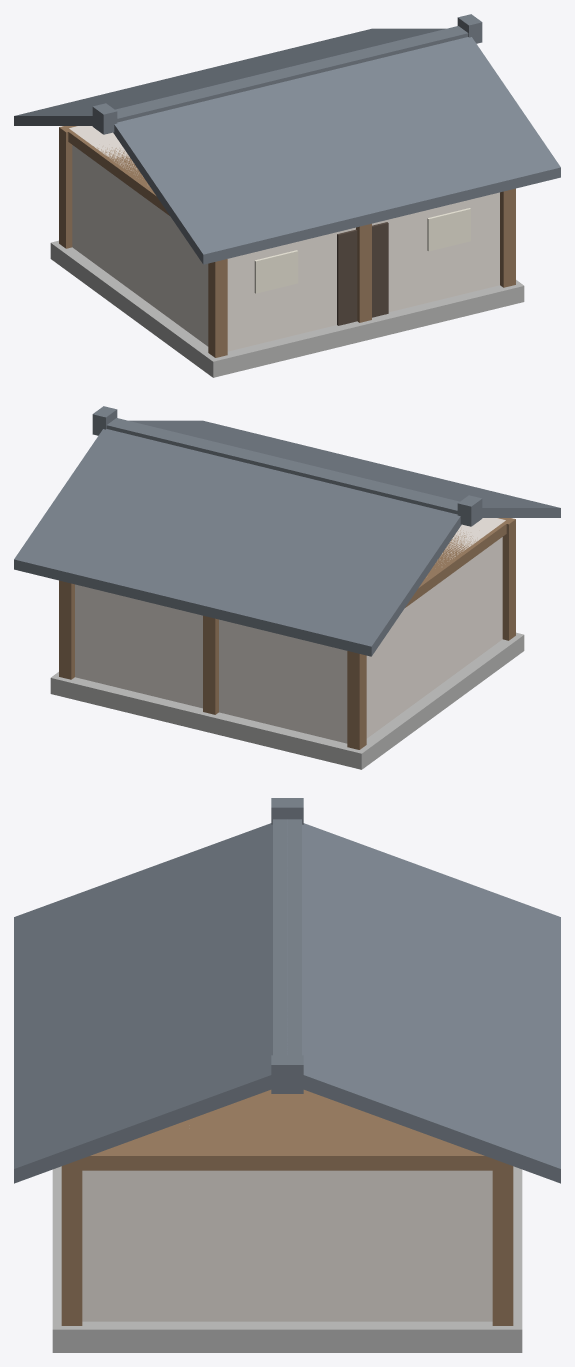
Rendered from house_s3_03.glb.
The picture shows the model from 3 angles, top to bottom: view 1: azimuth 30°, elevation 25°; view 2: azimuth 150°, elevation 25°; view 3: azimuth 270°, elevation 25°; orthographic projection. The views are drawn at different scales.
Parts seen in each view (by area): view 1: part01, part04, part03, part02, part00, part05; view 2: part01, part04, part03, part02; view 3: part01, part04, part02, part03.
Boxes of the visible parts, <box> form: part01: <box>14,14,560,264</box>; part04: <box>69,126,499,351</box>; part03: <box>50,240,524,377</box>; part02: <box>59,126,515,357</box>; part00: <box>337,222,388,325</box>; part05: <box>254,208,470,293</box>; part01: <box>14,406,560,656</box>; part04: <box>75,518,505,743</box>; part03: <box>50,632,524,769</box>; part02: <box>59,518,515,749</box>; part01: <box>14,798,560,1183</box>; part04: <box>82,1170,492,1321</box>; part02: <box>61,1090,513,1325</box>; part03: <box>52,1166,522,1352</box>.
Bounding box in the file's own units: 9.82 × 5.35 × 8.51.
